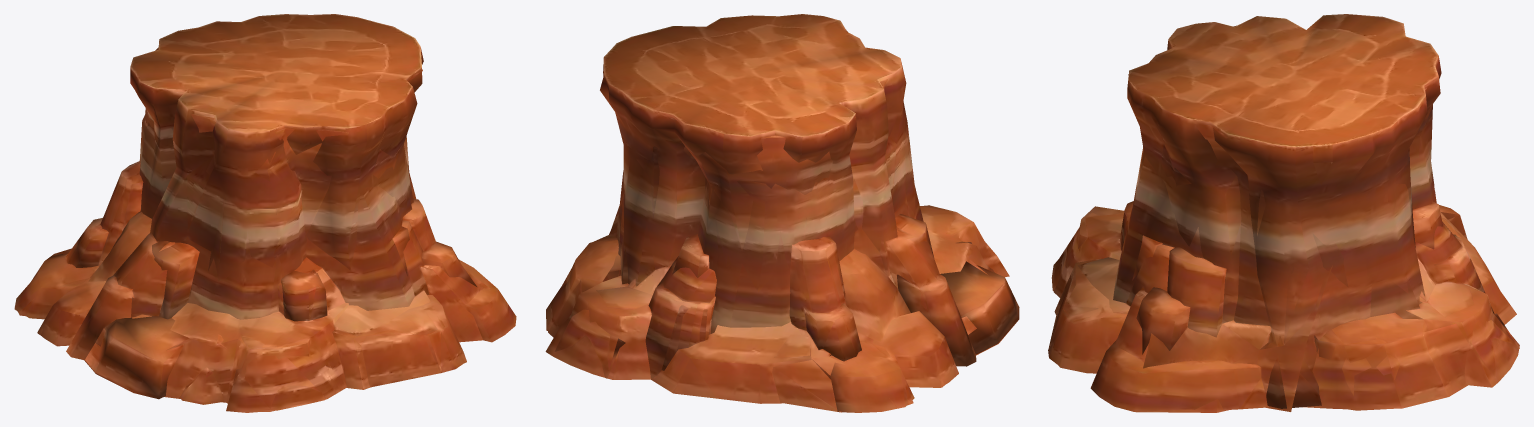
The model's file is desert_hill_1.glb.
3 views of the same model, side by side, from view 1: azimuth 30°, elevation 25°; view 2: azimuth 150°, elevation 25°; view 3: azimuth 270°, elevation 25° (orthographic). The views are drawn at different scales.
Size of the model in its own units: 0.998 by 0.5937 by 1.
1 material, 1 textured.
